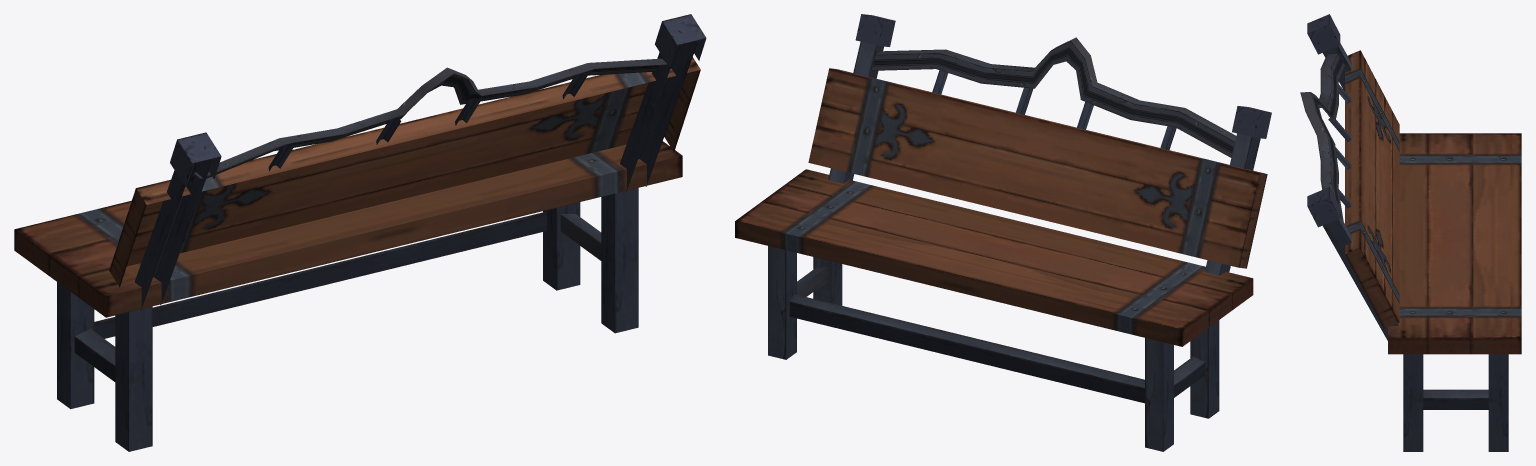
File: 2_ChengZhen_ChangYi_01.FBX
The picture shows the model from 3 angles, left to right: view 1: azimuth 30°, elevation 25°; view 2: azimuth 150°, elevation 25°; view 3: azimuth 270°, elevation 25°; orthographic projection. The views are drawn at different scales.
Visible parts, largest first — view 1: 2_ChengZhen_ChangYi_01; view 2: 2_ChengZhen_ChangYi_01; view 3: 2_ChengZhen_ChangYi_01.
Part boxes in pixels (x1,y1,x2,y2): 2_ChengZhen_ChangYi_01: (14,14,706,451); 2_ChengZhen_ChangYi_01: (735,14,1271,451); 2_ChengZhen_ChangYi_01: (1300,14,1521,451).
Bounding box in the file's own units: 244 × 149 × 111.
Materials: 1 (1 with a texture image).
